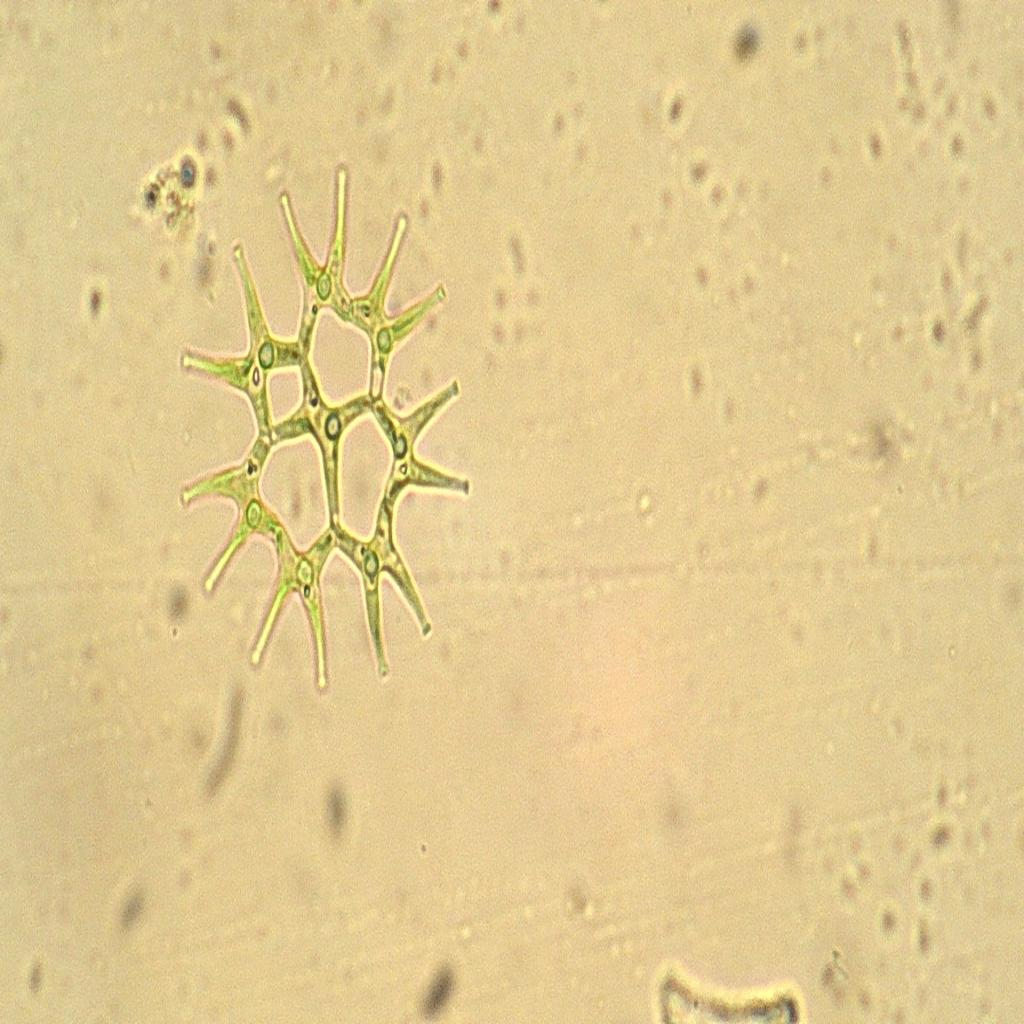Pediastrum_CTH: (168, 159, 482, 699)
